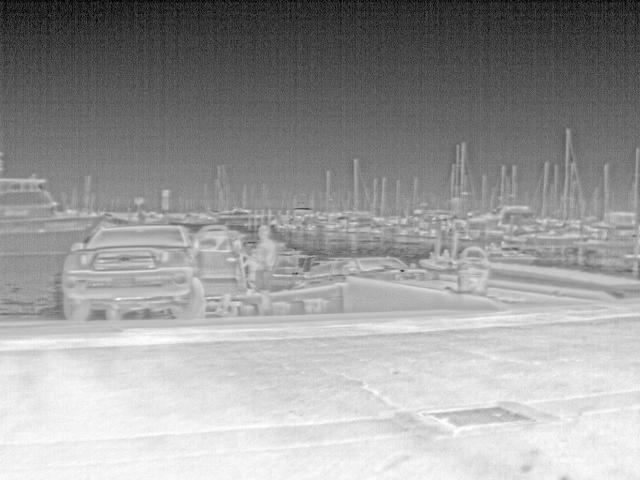car: (61, 220, 243, 321)
person: (244, 225, 277, 289)
